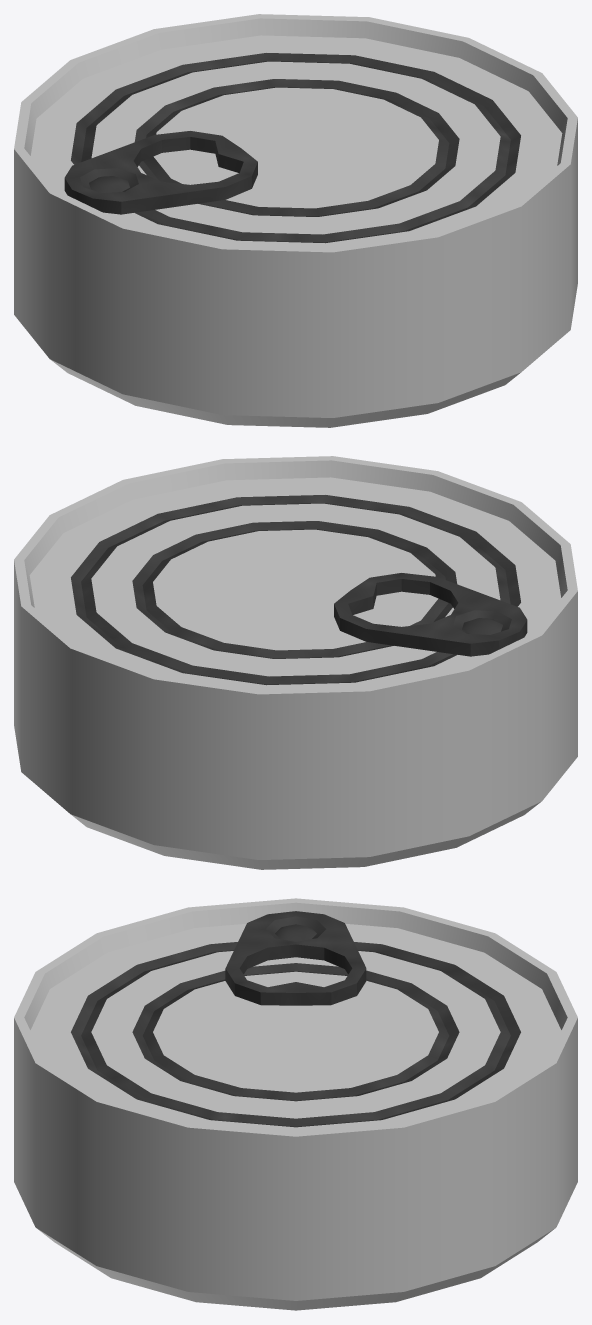
The model's file is canned_food_3.fbx.
3 renders of one model, top to bottom at view 1: azimuth 30°, elevation 25°; view 2: azimuth 150°, elevation 25°; view 3: azimuth 270°, elevation 25°, orthographic.
Visible parts, largest first — view 1: canned_food_3; view 2: canned_food_3; view 3: canned_food_3.
Boxes of the visible parts, <box> form: canned_food_3: <box>14,14,577,427</box>; canned_food_3: <box>14,456,577,869</box>; canned_food_3: <box>14,898,577,1310</box>.
Size of the model in its own units: 0.112 by 0.112 by 0.04.
